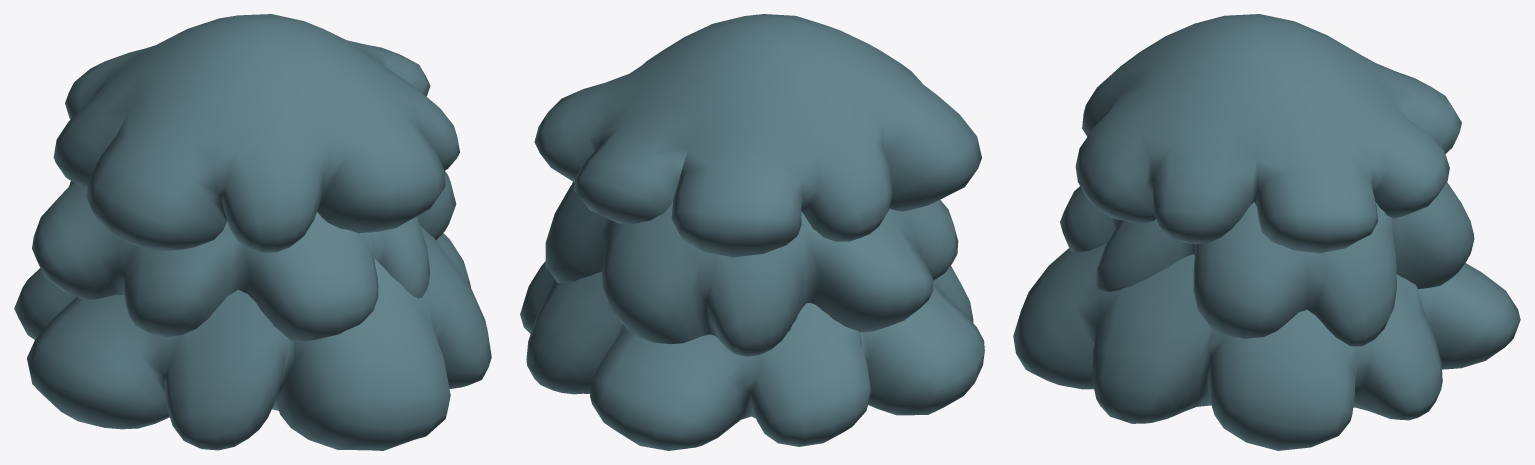
File: Bush_B_01.fbx
The picture shows the model from 3 angles, left to right: view 1: azimuth 30°, elevation 25°; view 2: azimuth 150°, elevation 25°; view 3: azimuth 270°, elevation 25°; orthographic projection. The views are drawn at different scales.
Visible parts, largest first — view 1: Bush_B_01_LOD0; view 2: Bush_B_01_LOD0; view 3: Bush_B_01_LOD0.
Part boxes in pixels (box(x1,y1,x2,y2)): Bush_B_01_LOD0: box(14, 14, 491, 450); Bush_B_01_LOD0: box(520, 14, 984, 450); Bush_B_01_LOD0: box(1013, 14, 1520, 450).
Size of what is drawn, in the model's own units: 483 by 387 by 520.
